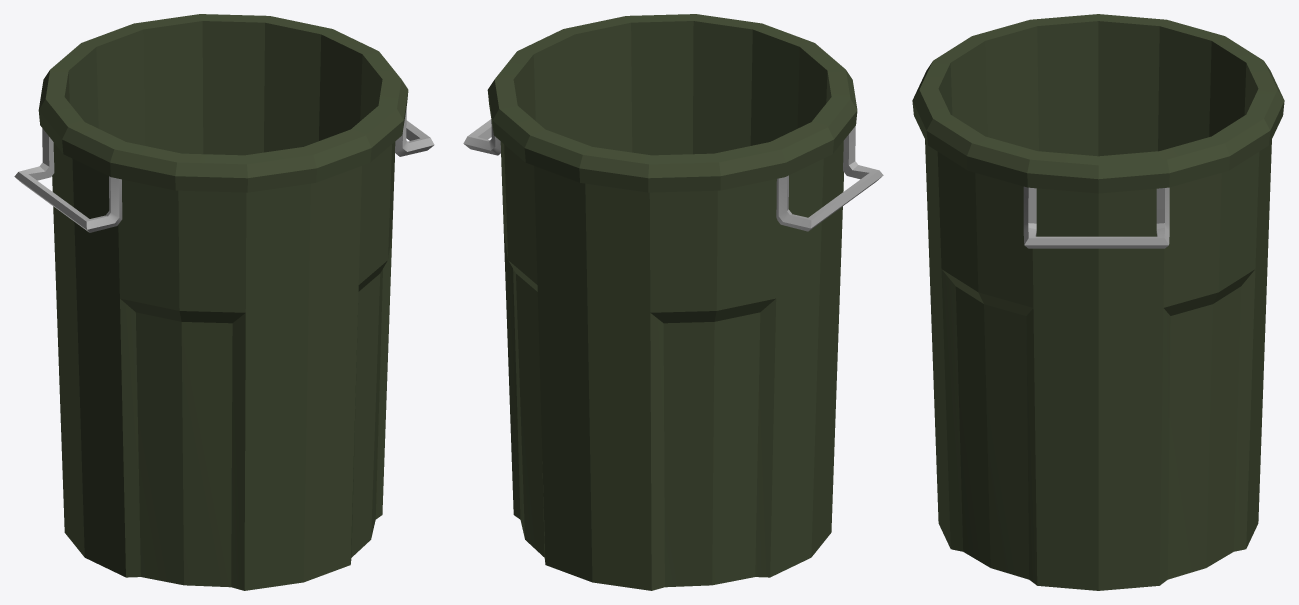
The model's file is SM_trash_bin_2.gltf.
3 renders of one model, left to right at view 1: azimuth 30°, elevation 25°; view 2: azimuth 150°, elevation 25°; view 3: azimuth 270°, elevation 25°, orthographic.
Parts seen in each view (by area): view 1: SM_trash_bin_2; view 2: SM_trash_bin_2; view 3: SM_trash_bin_2.
Boxes of the visible parts, bbox=[...] form: SM_trash_bin_2: bbox=[14, 14, 434, 590]; SM_trash_bin_2: bbox=[463, 14, 883, 590]; SM_trash_bin_2: bbox=[912, 14, 1284, 590].
Bounding box in the file's own units: 0.8371 × 1 × 0.7776.
1 material, 1 textured.
